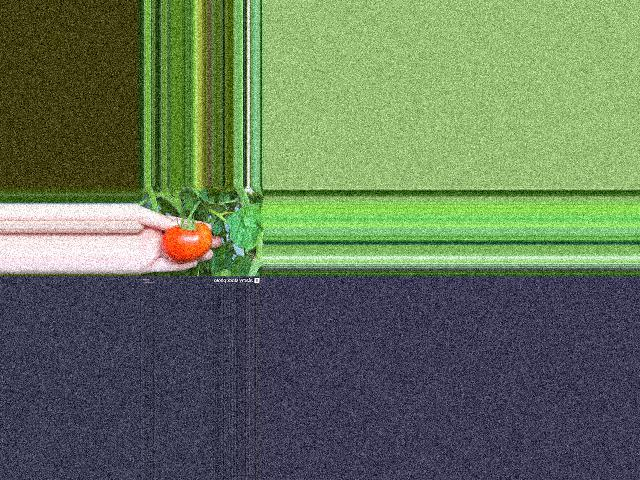tomato: (160, 223, 211, 262)
